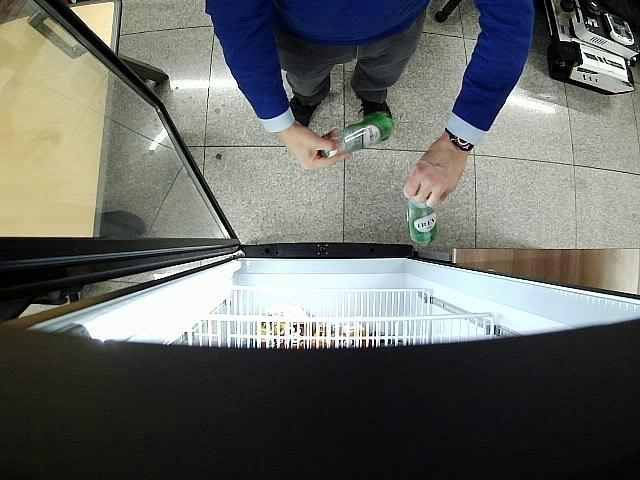18_trevi: (322, 110, 394, 158), (408, 196, 438, 246)
